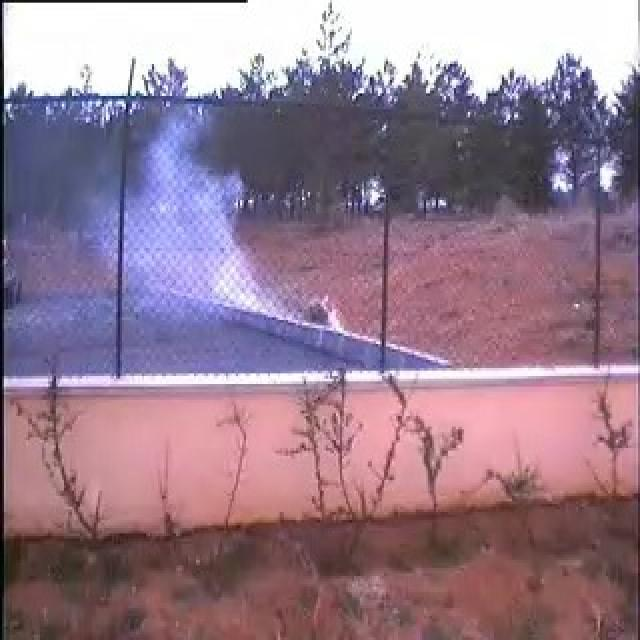smoke: (81, 120, 295, 326)
